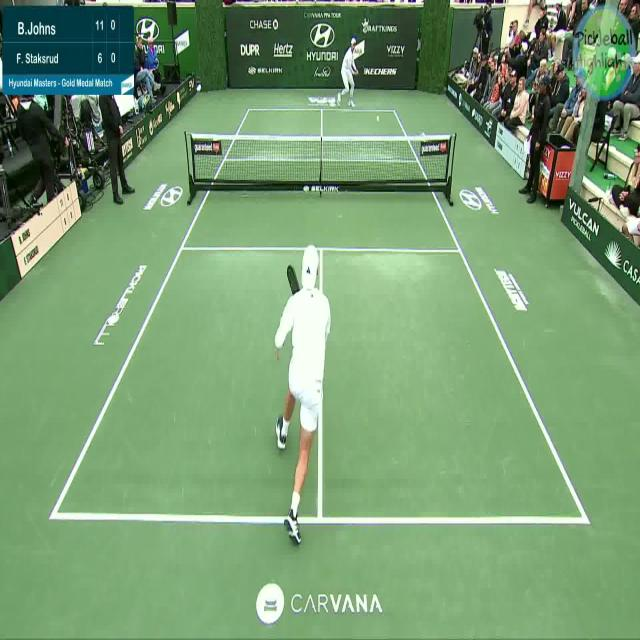ball: (376, 113, 379, 123)
